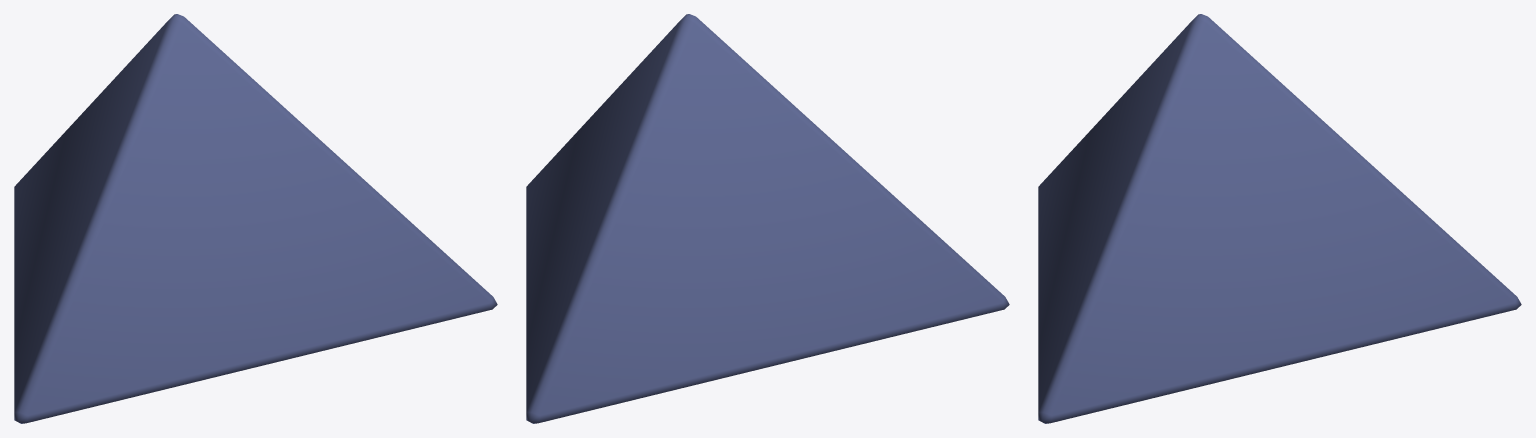
File: dice4.fbx
3 views of the same model, side by side, from view 1: azimuth 30°, elevation 25°; view 2: azimuth 150°, elevation 25°; view 3: azimuth 270°, elevation 25° (orthographic).
Visible parts, largest first — view 1: dice4; view 2: dice4; view 3: dice4.
Boxes of the visible parts, x1,y1,x2,y2 form: dice4: (14,14,497,423); dice4: (526,14,1009,423); dice4: (1038,14,1521,423).
Size of the model in its own units: 164 by 96.58 by 143.
